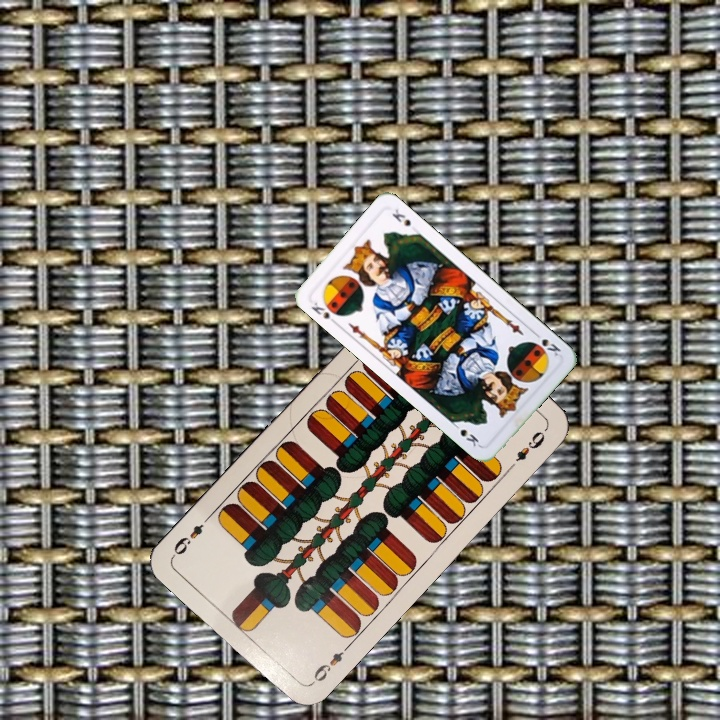E9: (307, 640, 353, 687)
SK: (529, 328, 564, 359), (307, 298, 340, 327)
